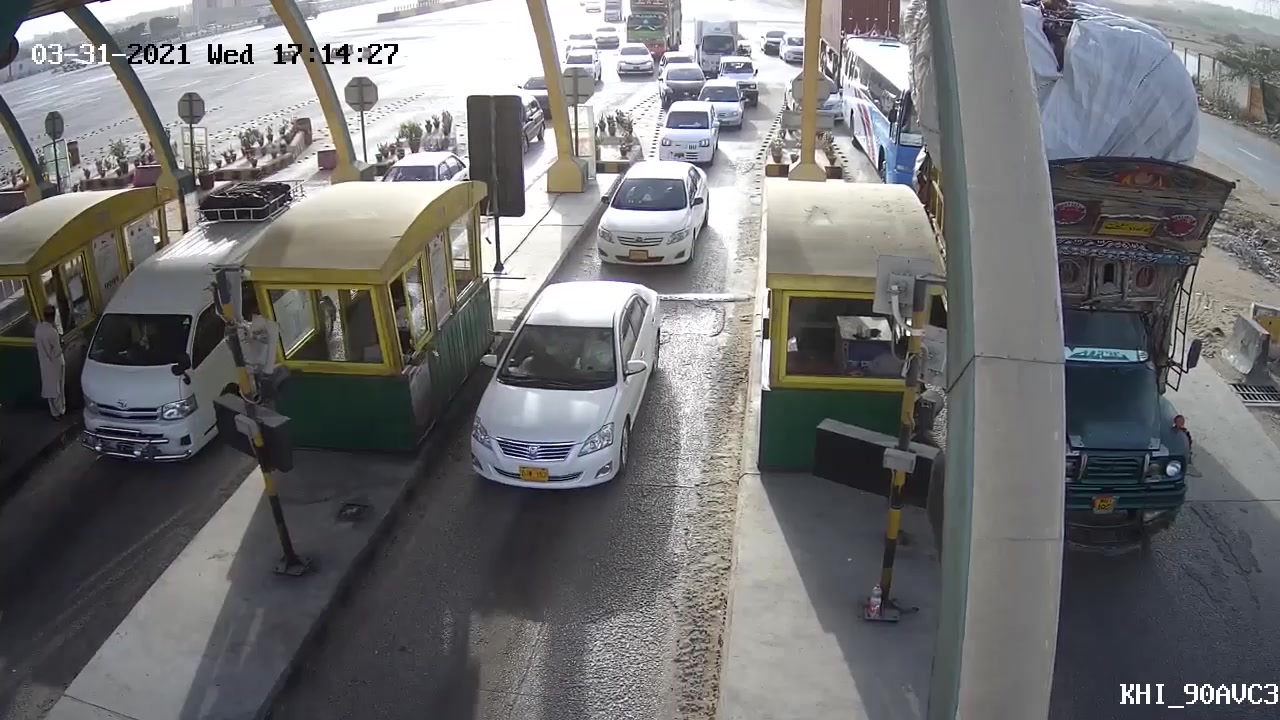F1: (451, 277, 672, 504), (595, 157, 715, 274)
